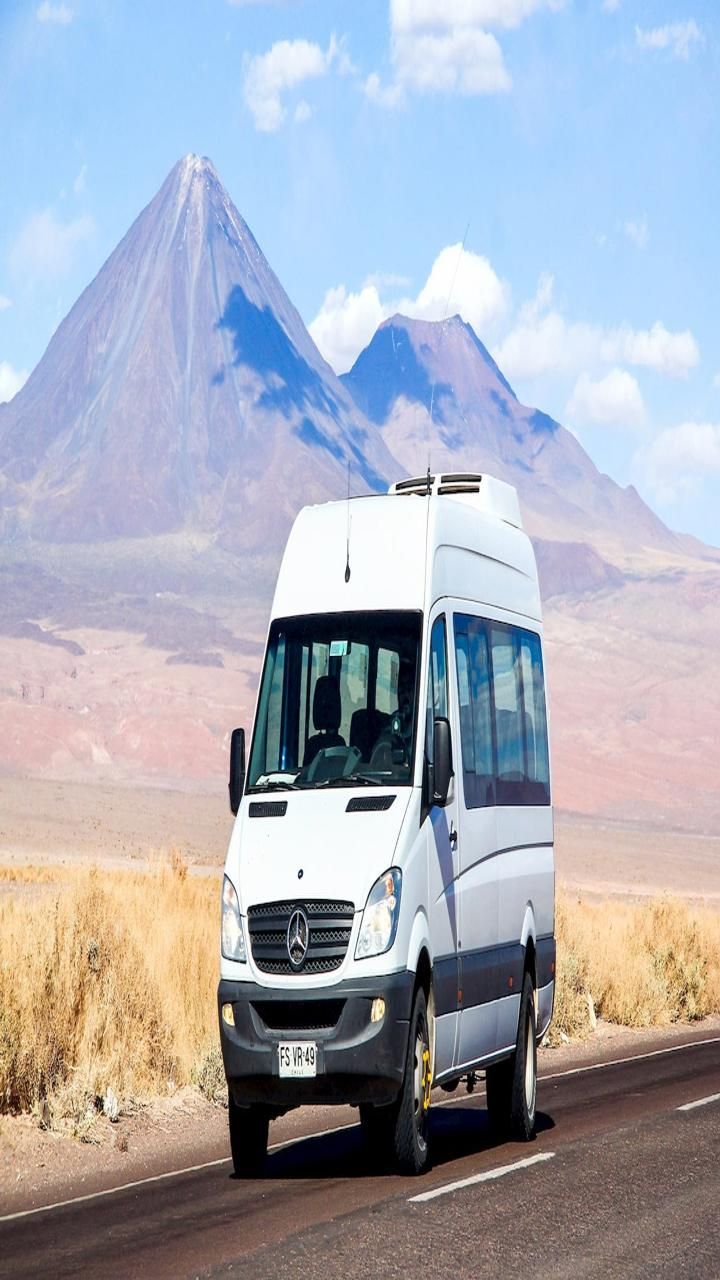vehicle: (159, 453, 636, 1211)
